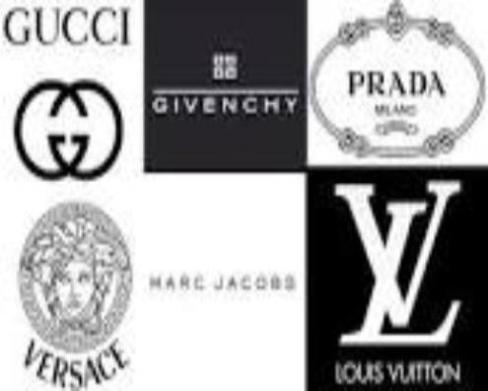VERSACE: (4, 187, 161, 389)
